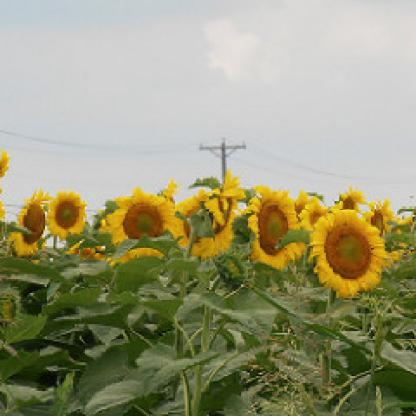SUN FLOWER: (7, 100, 409, 332)
